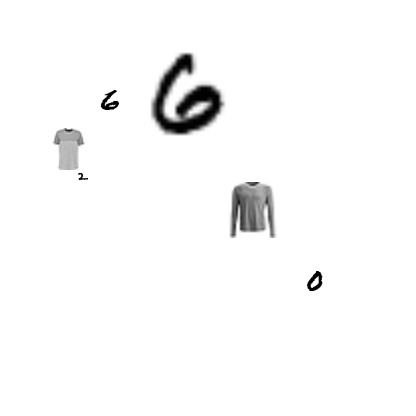0: (301, 267, 329, 295)
2: (75, 170, 89, 184)
6: (128, 42, 240, 154), (95, 88, 123, 116)
T-shirt/top: (224, 182, 280, 238), (47, 128, 89, 170)
